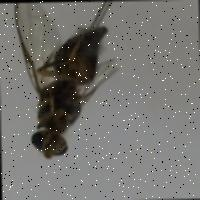Oriental-fruit-fly: (4, 0, 125, 165)
